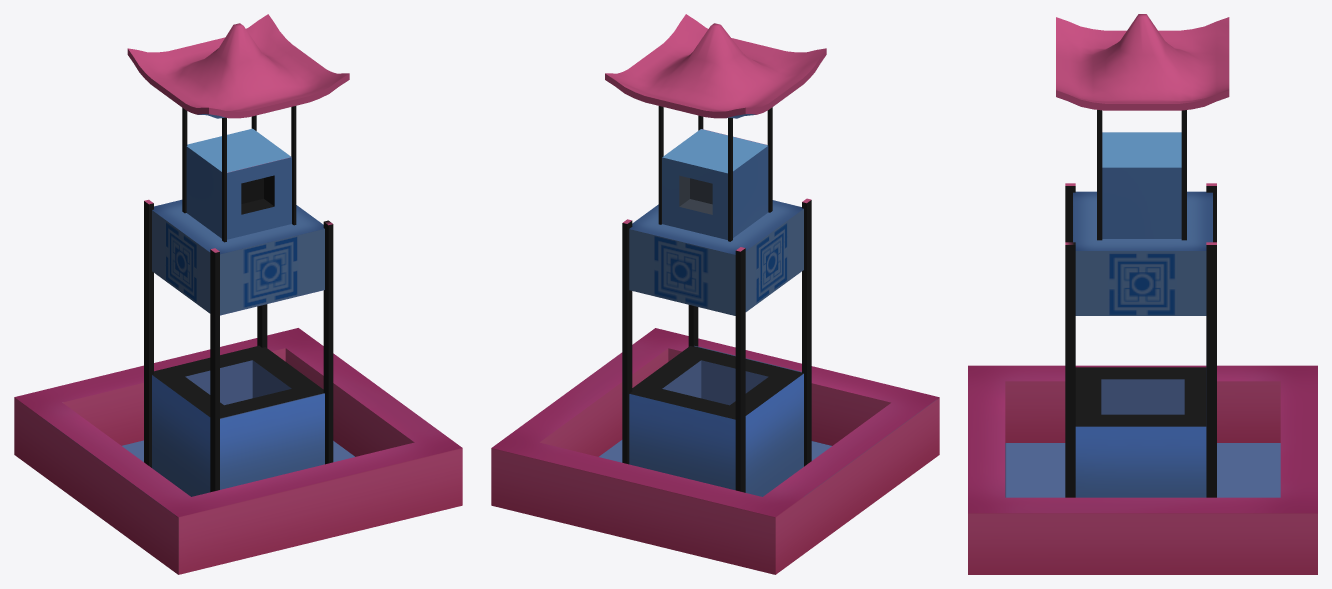
File: V2_Tower1.FBX
3 renders of one model, left to right at view 1: azimuth 30°, elevation 25°; view 2: azimuth 150°, elevation 25°; view 3: azimuth 270°, elevation 25°, orthographic. The views are drawn at different scales.
Visible parts, largest first — view 1: Box087; view 2: Box087; view 3: Box087.
Boxes of the visible parts, x1,y1,x2,y2 form: Box087: (14,14,462,574); Box087: (491,14,939,574); Box087: (968,14,1317,574).
Size of the model in its own units: 296 by 452 by 296.
Materials: 1 (1 with a texture image).
